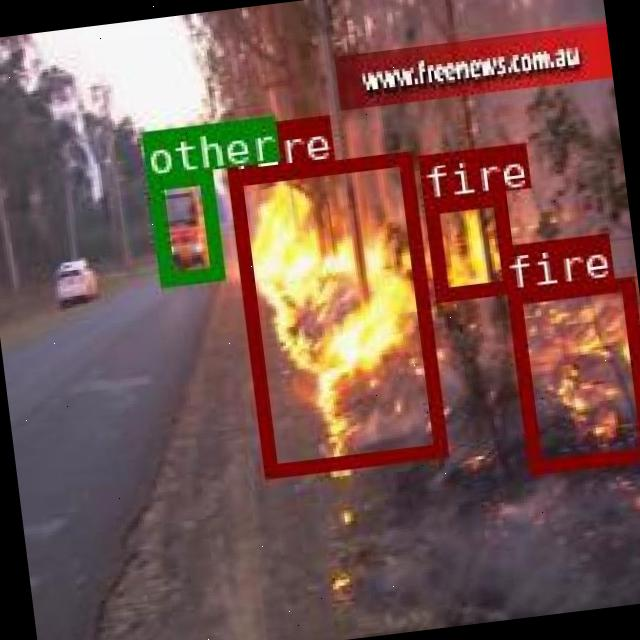fire: (224, 150, 443, 476), (507, 274, 640, 471), (422, 191, 514, 299)
